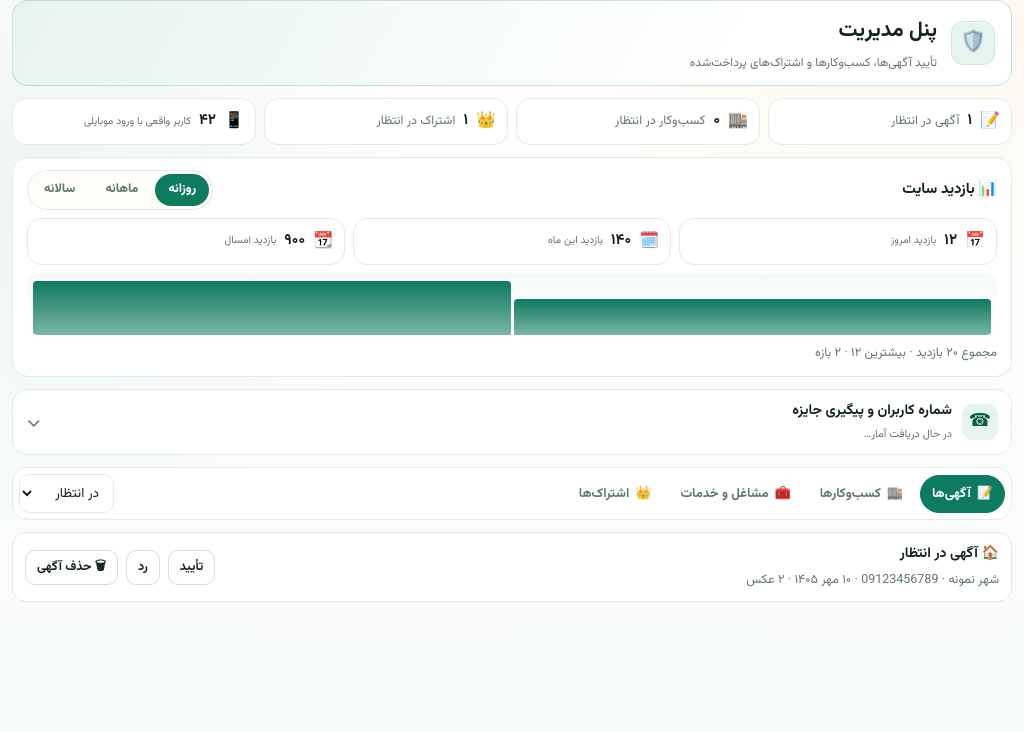
it: AdminPanel › offers restoring a suspended business in the CLOSED queue
Click the tab with test id "tab-businesses": (861, 494) [808,475,915,513]
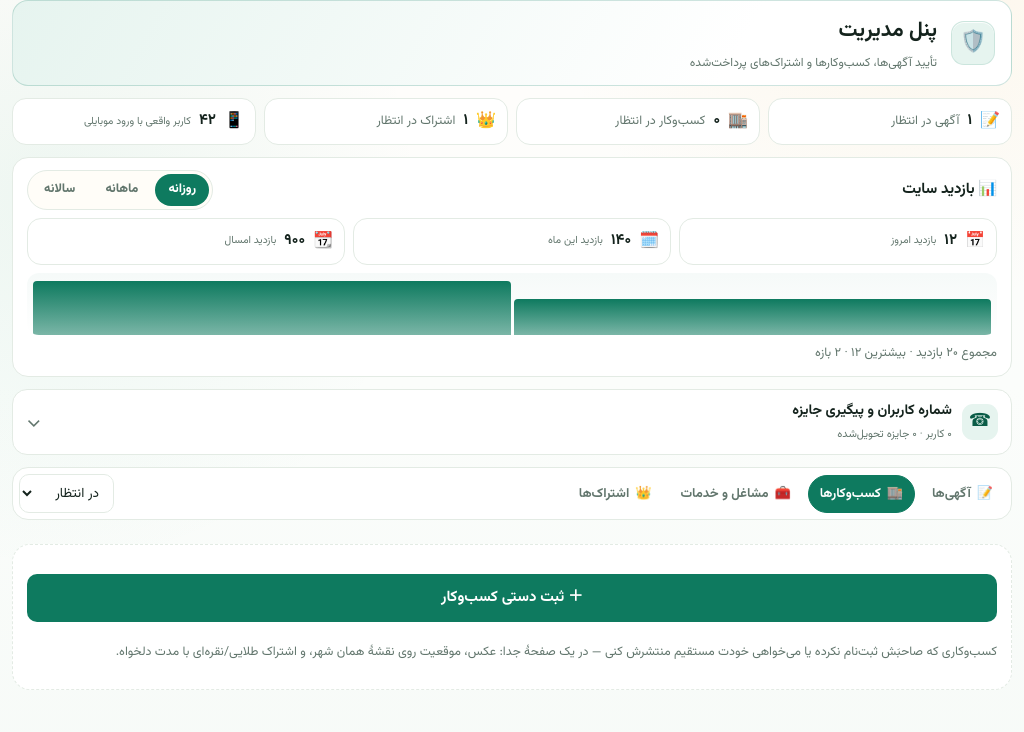
Select "معلق" in the dropdown with test id "status-filter": (66, 494) [19,474,114,513]
(page scrolled)
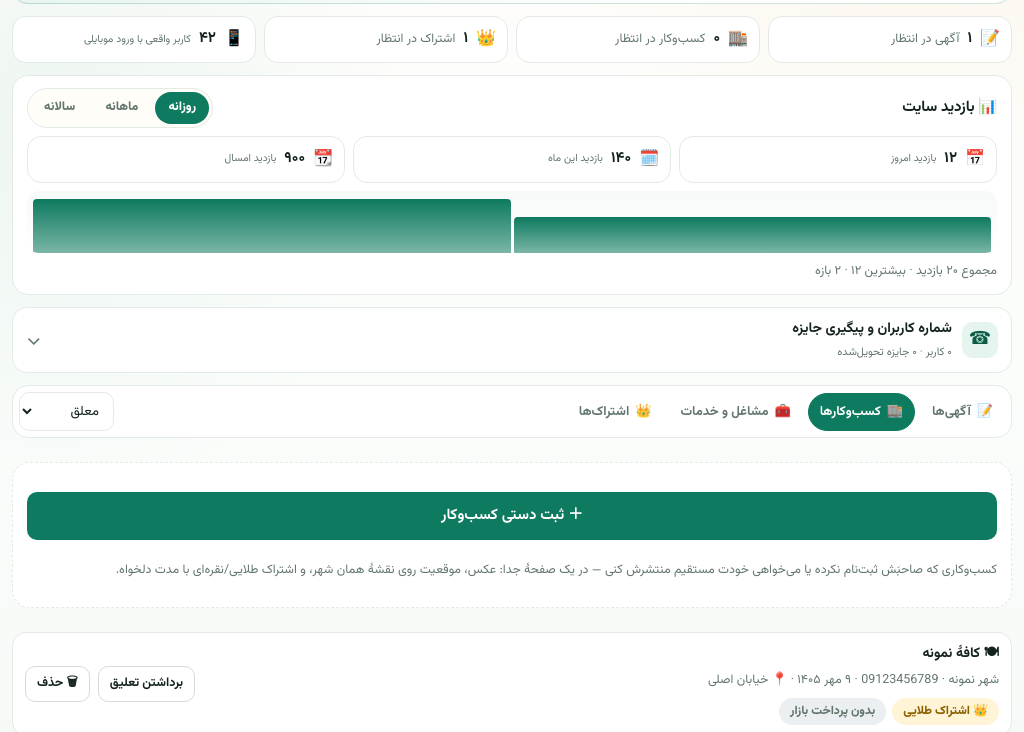
Click the button with test id "restore-21": (146, 684) [98,666,195,702]
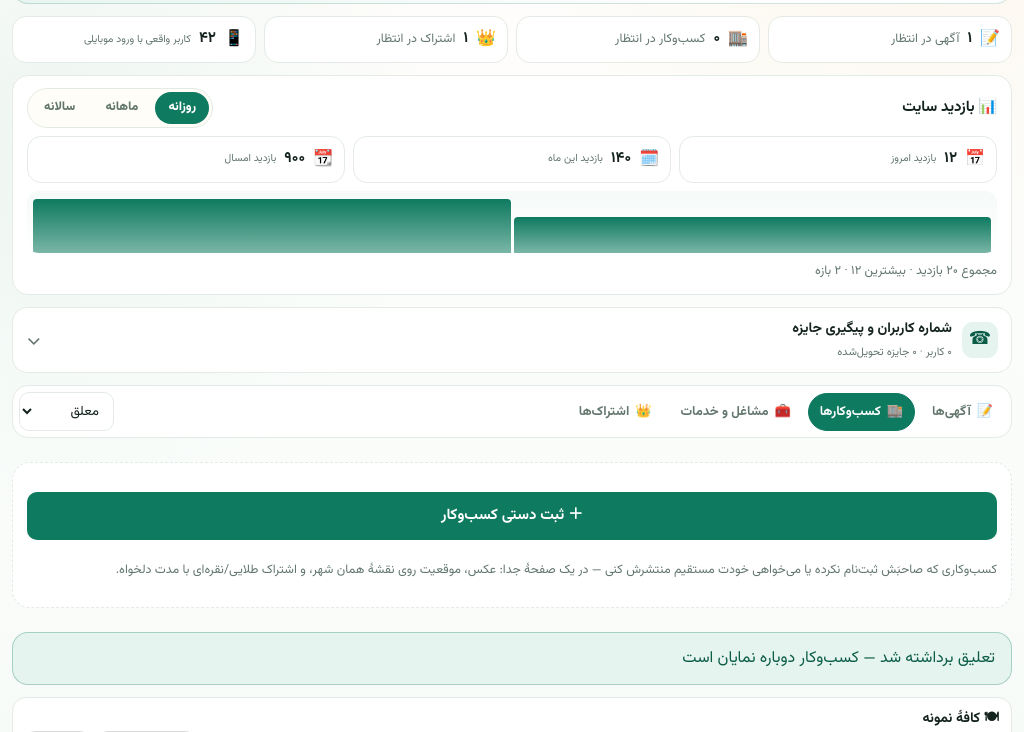
Now the message shows "تعلیق برداشته شد", box [682,646,995,671]
